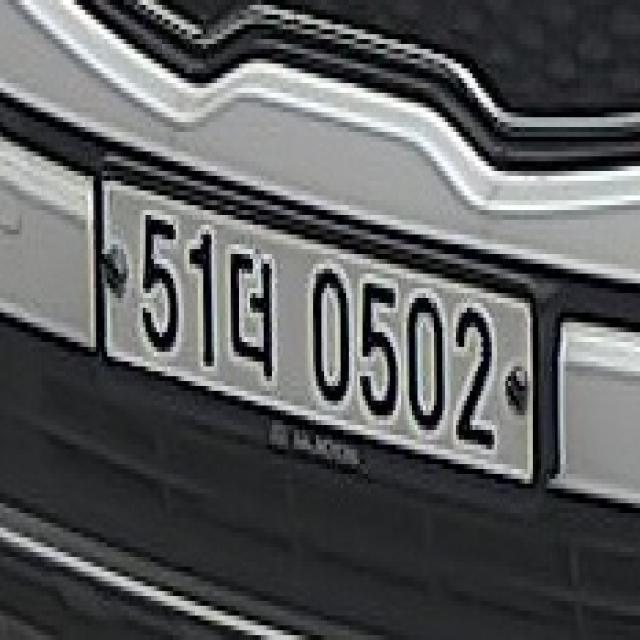0: (303, 252, 355, 422), (405, 288, 448, 439)
1: (184, 218, 222, 386)
2: (452, 300, 498, 456)
5: (134, 198, 180, 366), (358, 272, 401, 432)
deo: (228, 239, 286, 399)
license_plate: (82, 134, 573, 535)
